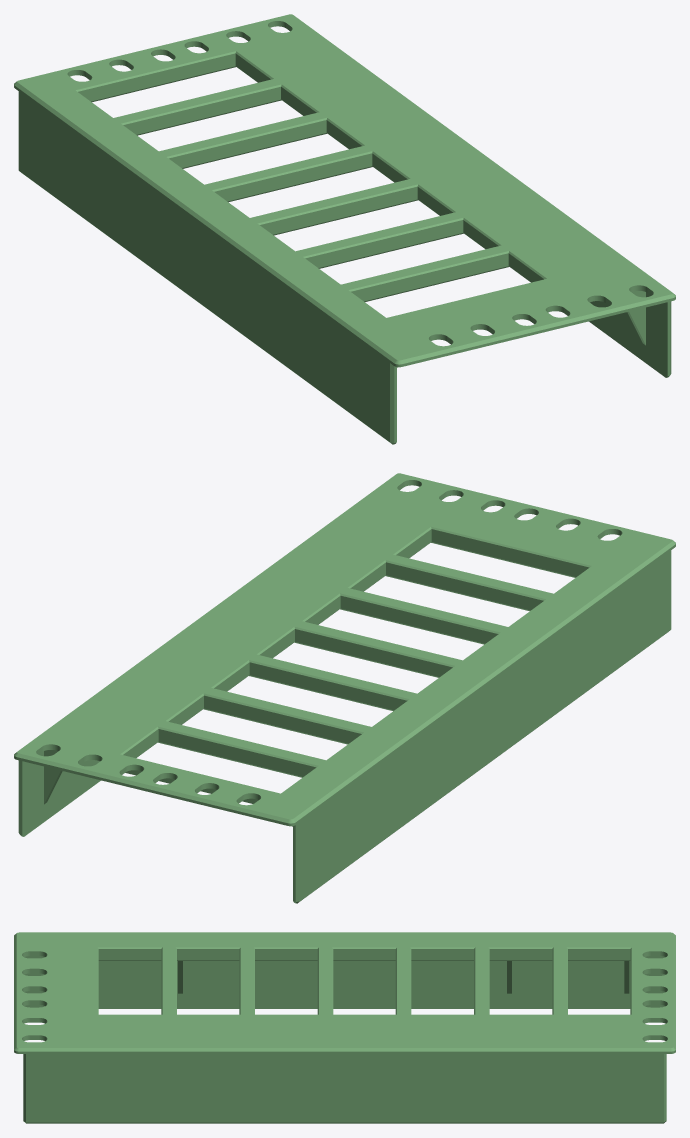
File: other-homeracker-pi5-case-7.glb
3 views of the same model, one above another, from view 1: azimuth 30°, elevation 25°; view 2: azimuth 150°, elevation 25°; view 3: azimuth 270°, elevation 25° (orthographic). The views are drawn at different scales.
Visible parts, largest first — view 1: HomeRacker+-+Pi5+Case.3mf; view 2: HomeRacker+-+Pi5+Case.3mf; view 3: HomeRacker+-+Pi5+Case.3mf.
Part boxes in pixels (box(x1,y1,x2,y2)): HomeRacker+-+Pi5+Case.3mf: box(14, 14, 675, 444); HomeRacker+-+Pi5+Case.3mf: box(14, 473, 675, 903); HomeRacker+-+Pi5+Case.3mf: box(14, 932, 675, 1123).
Bounding box in the file's own units: 107 × 31.9 × 254.
